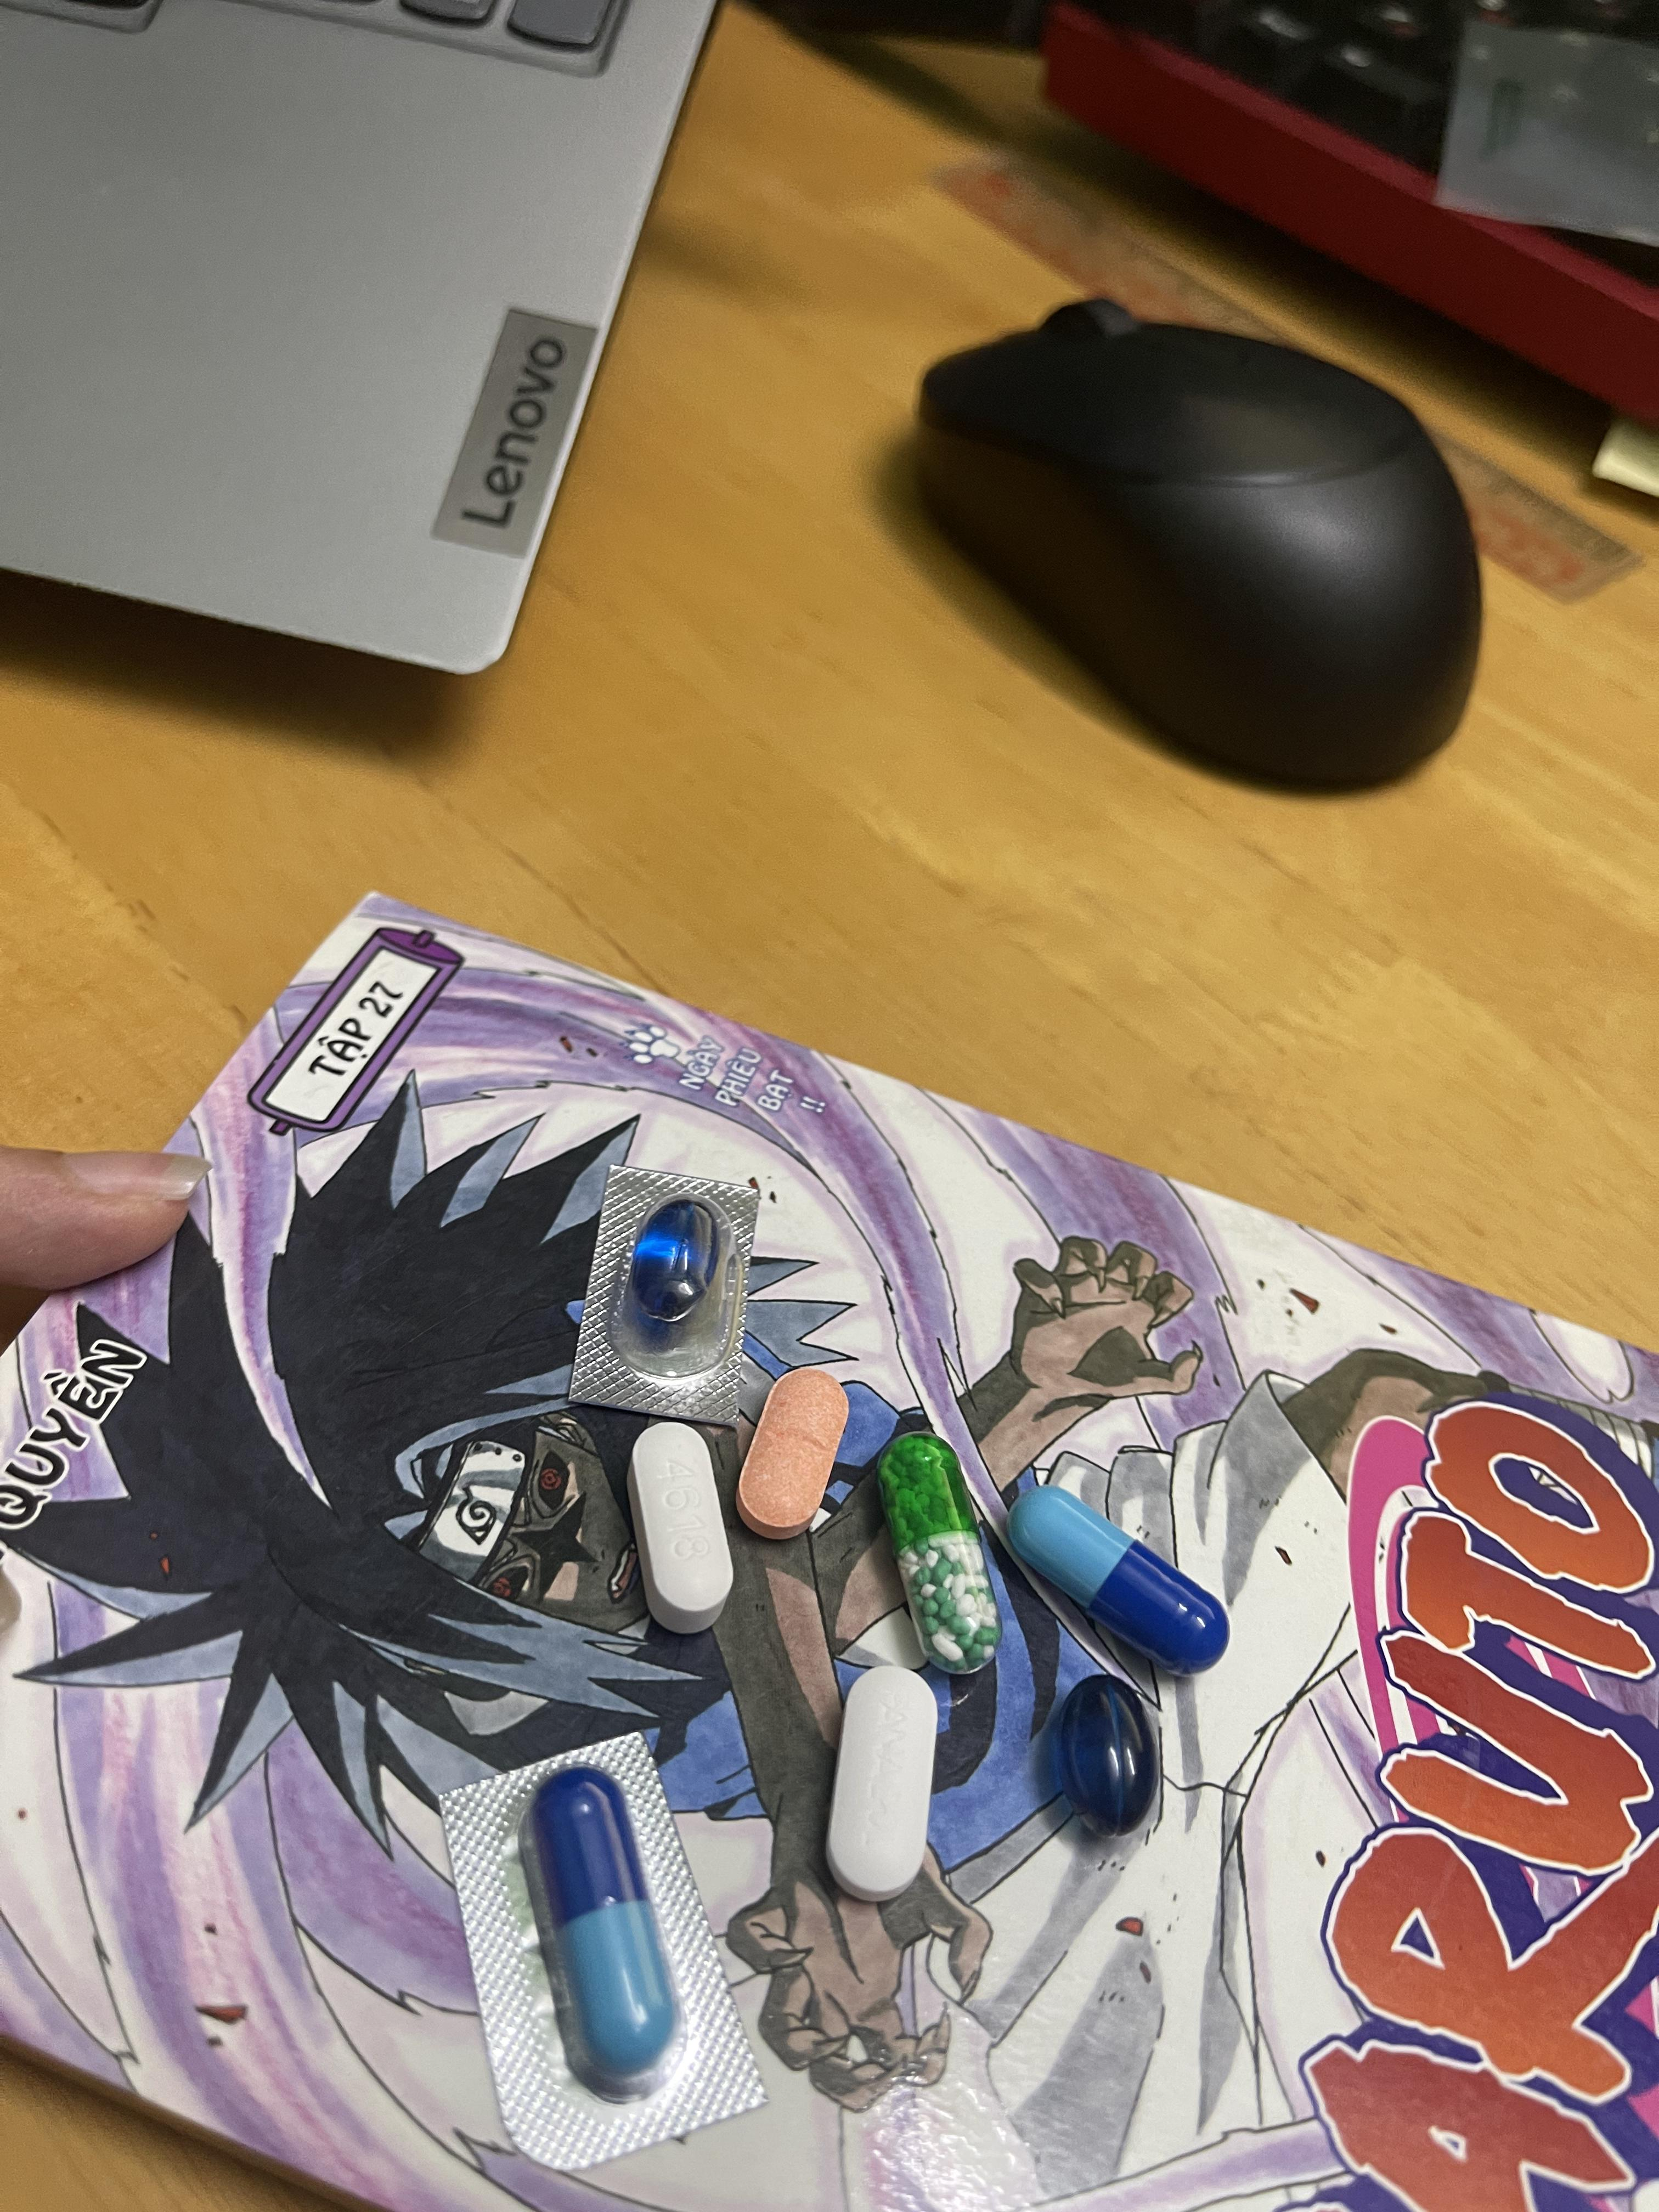Lincomyxin_500mg: (1044, 1672, 1152, 1836), (631, 1219, 709, 1325)
Loratadine_10mg: (737, 1371, 850, 1533)
Paracetamol_350mg: (824, 1660, 941, 1900)
Paracetamol_500mg: (627, 1421, 734, 1635)
Paracetamol_650mg: (882, 1437, 997, 1665)
pill: (533, 1778, 678, 2095), (1014, 1475, 1225, 1669)
